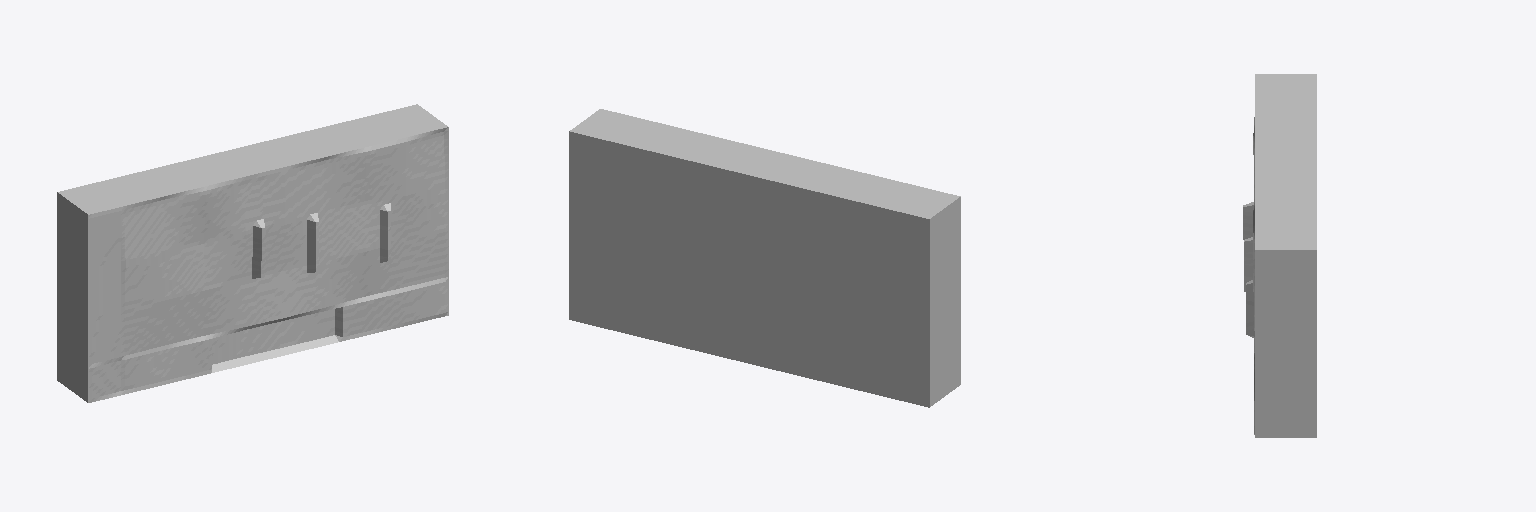
Rendered from rectangular_prism_bumps_7_2.obj.
3 views of the same model, side by side, from view 1: azimuth 30°, elevation 25°; view 2: azimuth 150°, elevation 25°; view 3: azimuth 270°, elevation 25° (orthographic).
Size of the model in its own units: 10 by 5 by 1.79.